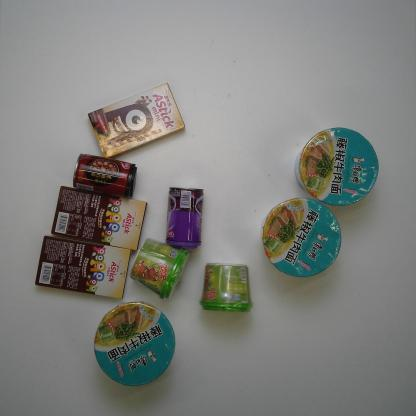Canned Food: (70, 150, 139, 201), (163, 184, 204, 250)
Dessert: (87, 82, 189, 164), (31, 231, 134, 302), (48, 184, 149, 254)
Instant Drink: (128, 236, 191, 301), (198, 260, 254, 315)
Instant Noodles: (91, 299, 178, 388), (291, 125, 381, 208), (259, 194, 343, 281)
